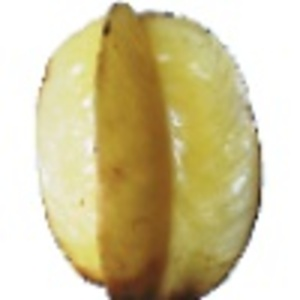carambola: (33, 2, 267, 300)
